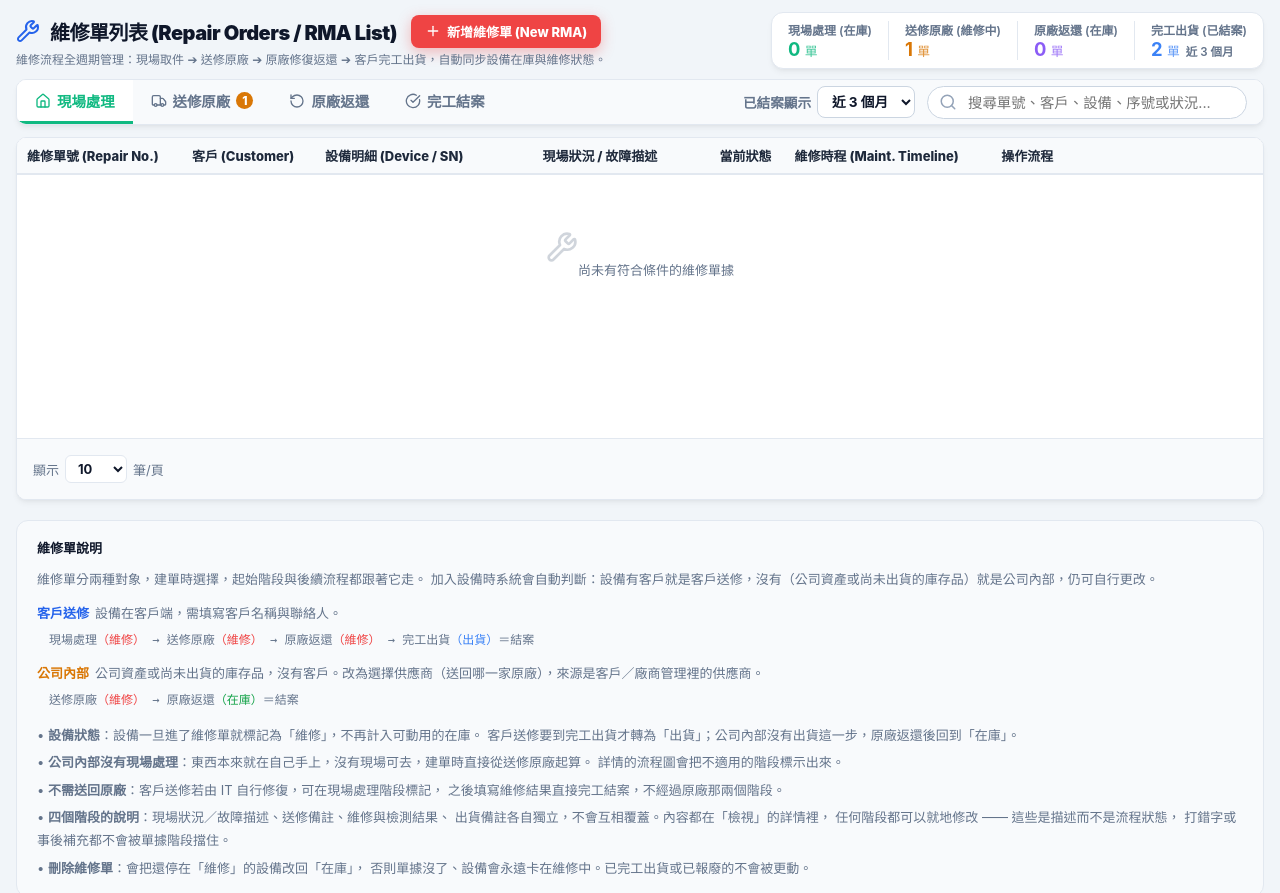
Scenario: 維修單列表 › 講清楚有幾張較早結案的沒列出，並可一鍵顯示全部
Expected: the text with test id "stat-1" reads "1", [905,38,913,60]
Click the button "完工結案": x=445, y=102 [387,80,503,124]
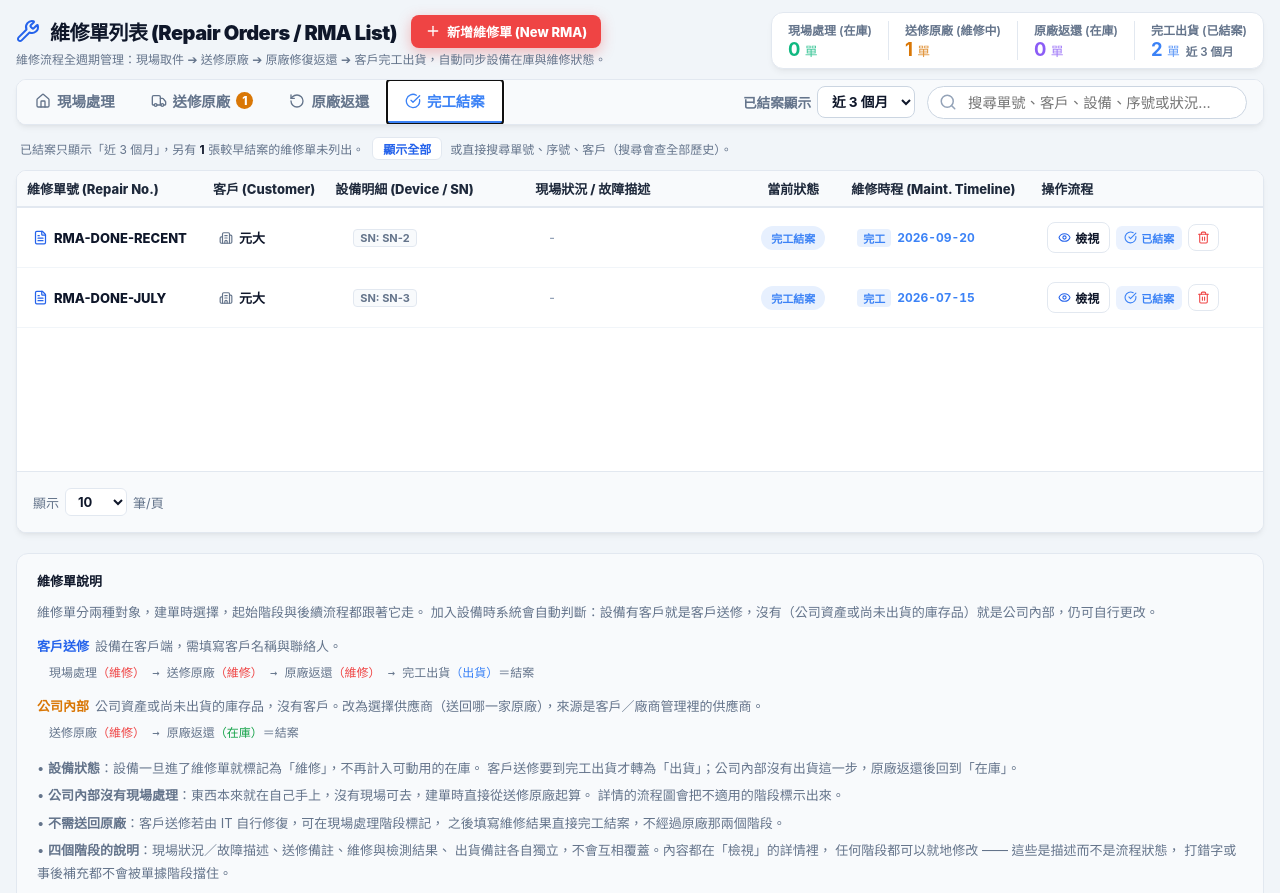
Result: the element with test id "hidden-closed-hint" shows "另有 1 張較早結案的維修單未列出" at [20,137,732,160]
Click the button "顯示全部": x=407, y=148 [372,137,442,160]
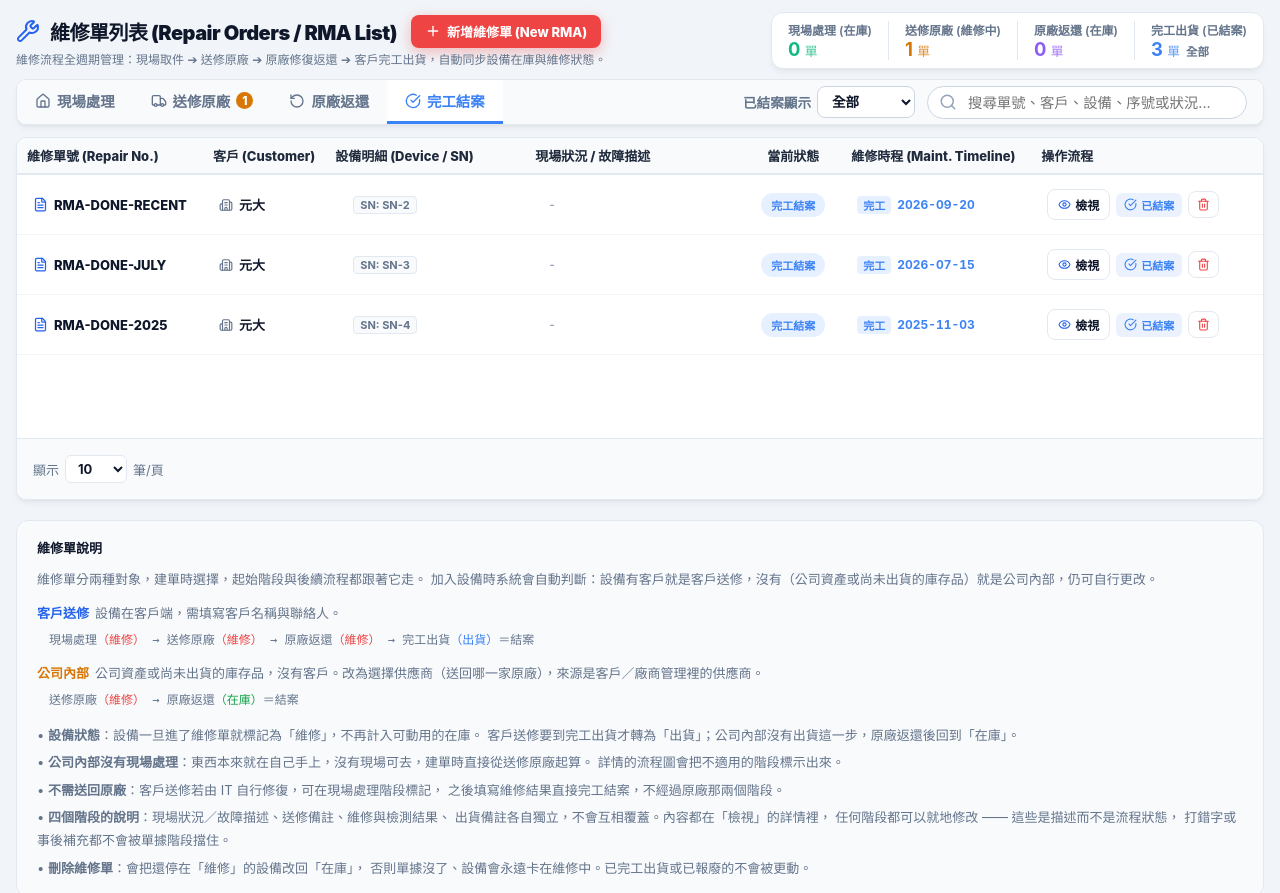
Result: the text "RMA-DONE-2025" is shown at [54,316,168,332]
Result: the element with test id "hidden-closed-hint" is gone
